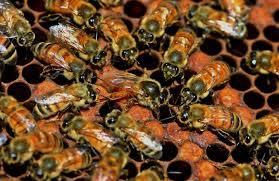worker-bee: (29, 40, 97, 85), (107, 109, 165, 161), (52, 17, 111, 65), (100, 70, 173, 106), (29, 143, 95, 181), (32, 83, 102, 118), (176, 101, 244, 135), (182, 59, 230, 107), (165, 24, 200, 86), (3, 130, 62, 165), (138, 0, 180, 49), (102, 12, 138, 67), (1, 84, 38, 134), (244, 106, 279, 150)
